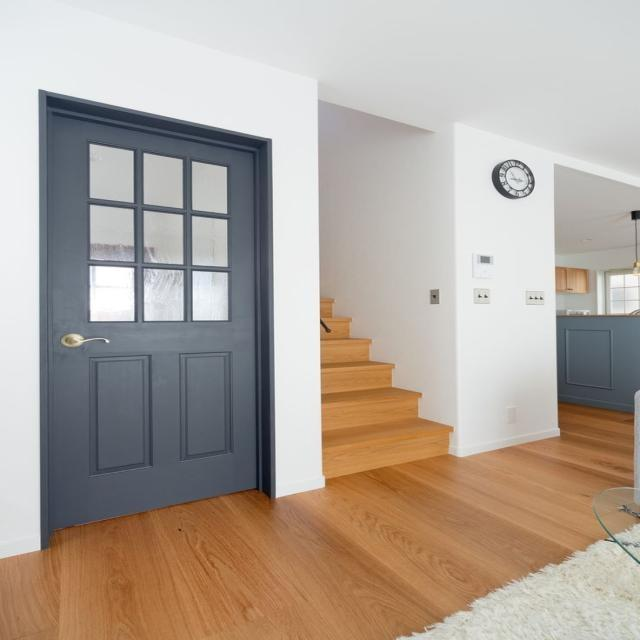door: (38, 90, 268, 536)
